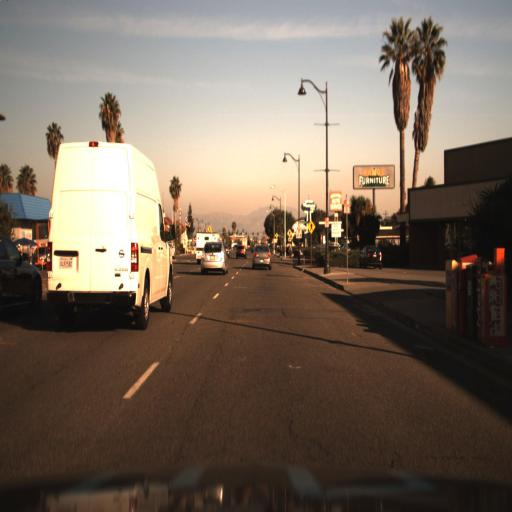car: (1, 227, 50, 313), (199, 236, 228, 281), (246, 241, 269, 272), (357, 241, 378, 270), (232, 240, 247, 261)
truck: (41, 130, 180, 344)
